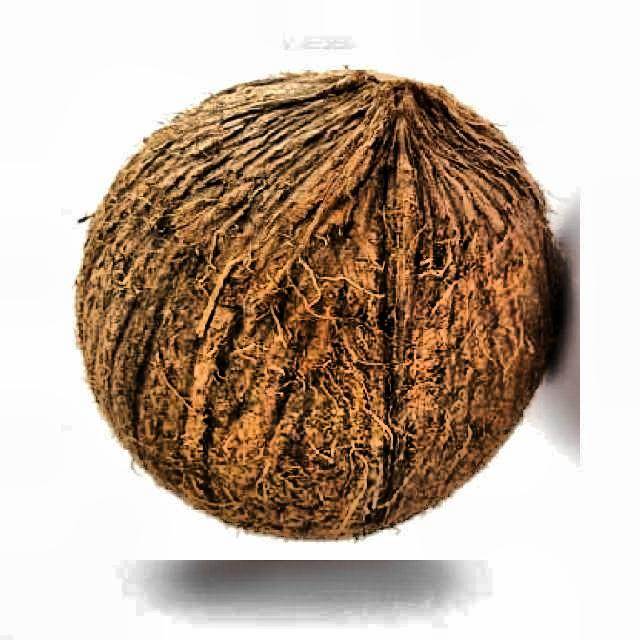good: (94, 70, 567, 560)
